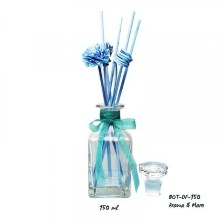bottle: (78, 99, 138, 202)
